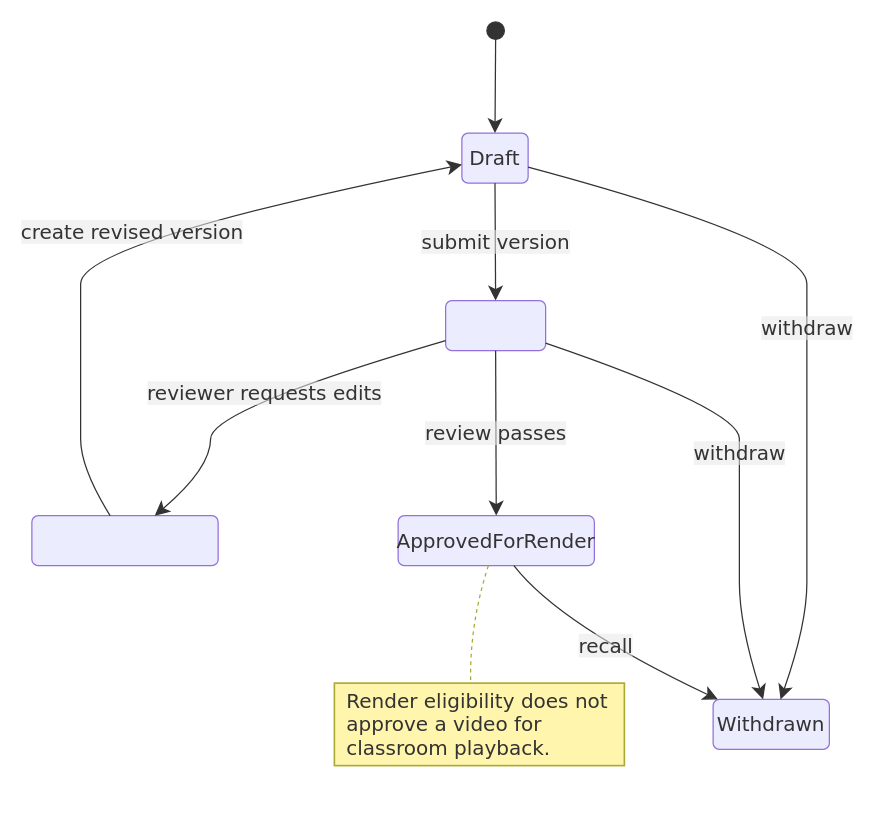
Some shapes in this 875 by 819 pixel diagram are drawn without their labels. The centre of each missing label's shape, as x and y in pixels:
"ChangesRequested" goes at point (124, 540).
"InReview" goes at point (495, 325).
